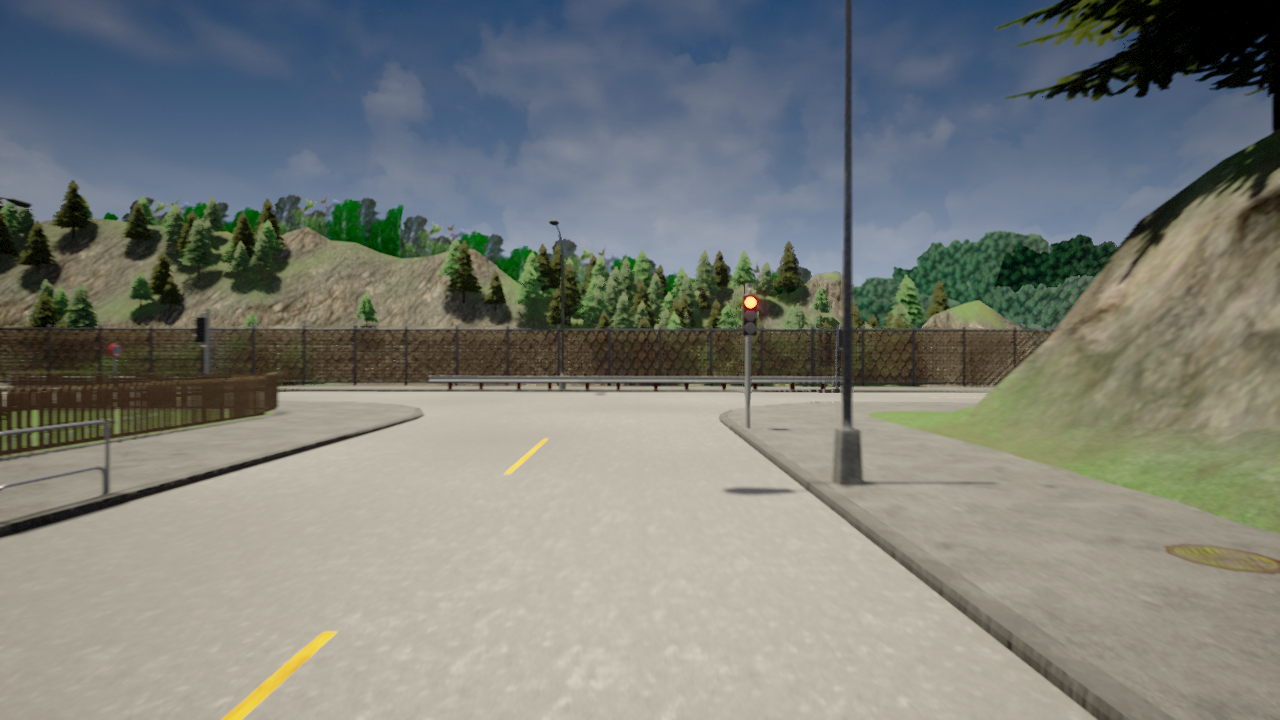red: (741, 293, 758, 337)
